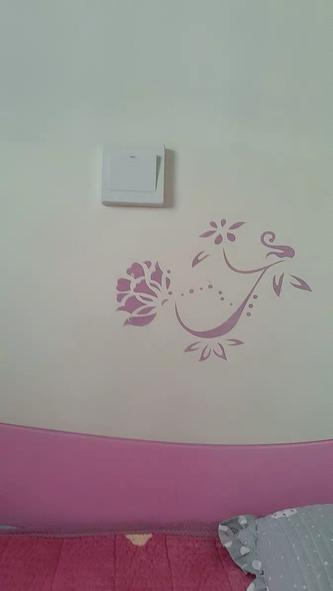switch: (106, 145, 166, 198)
